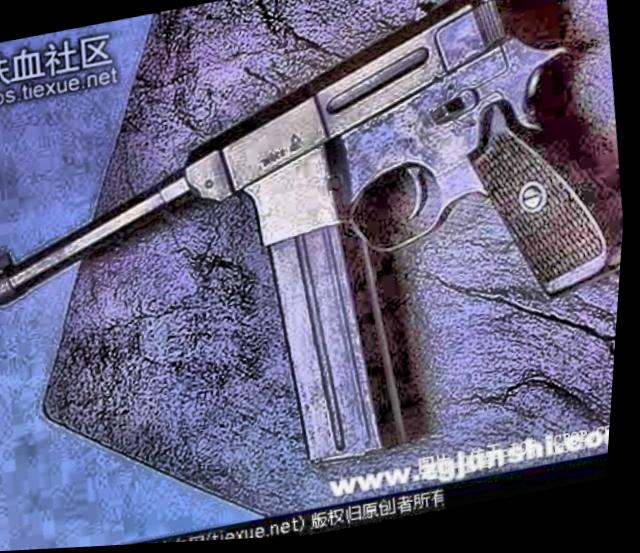pistol: (0, 0, 628, 393)
